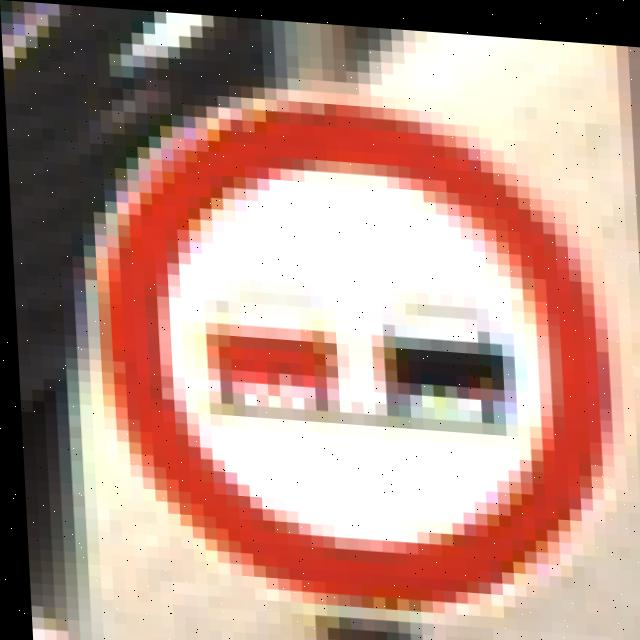no_overtaking: (80, 86, 619, 599)
